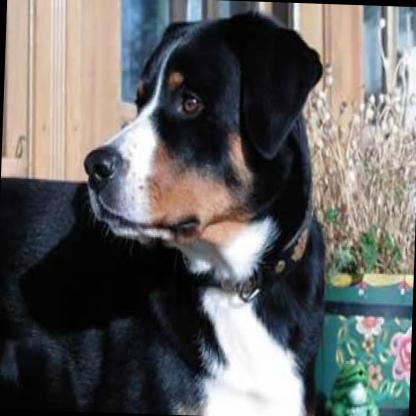Appenzeller: (0, 2, 335, 416)
